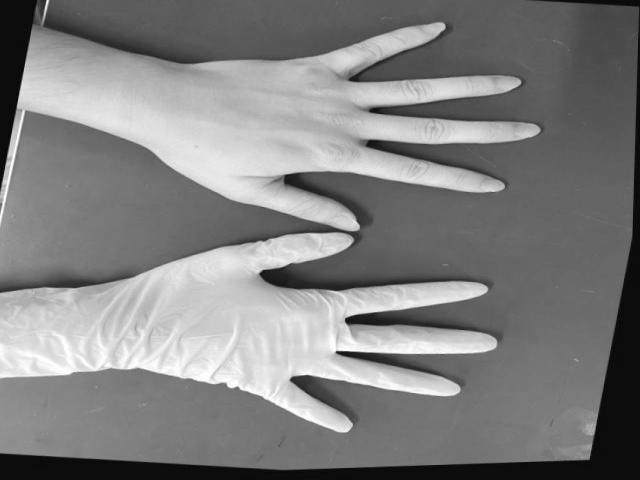gloved: (168, 21, 536, 227), (138, 229, 494, 431)
